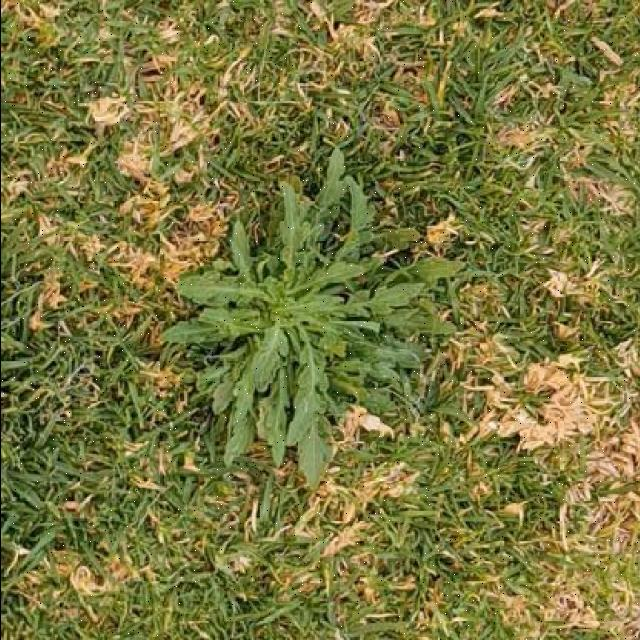weed: (164, 149, 462, 486)
